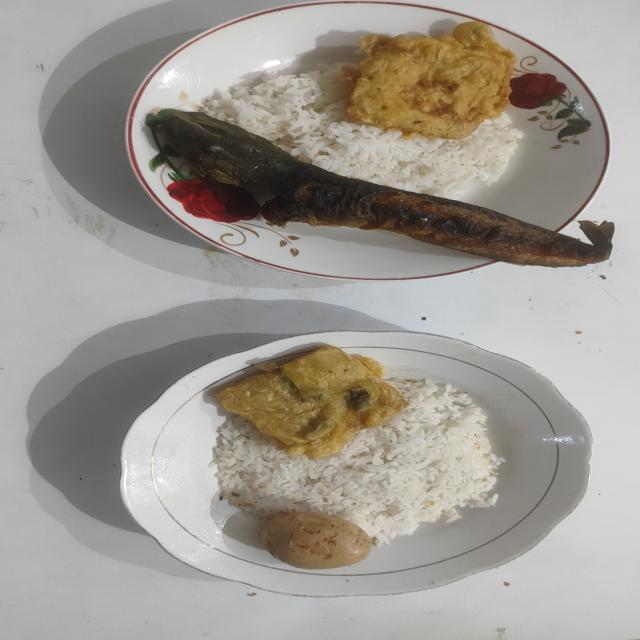nasi_putih: (212, 375, 505, 547), (192, 61, 522, 202)
